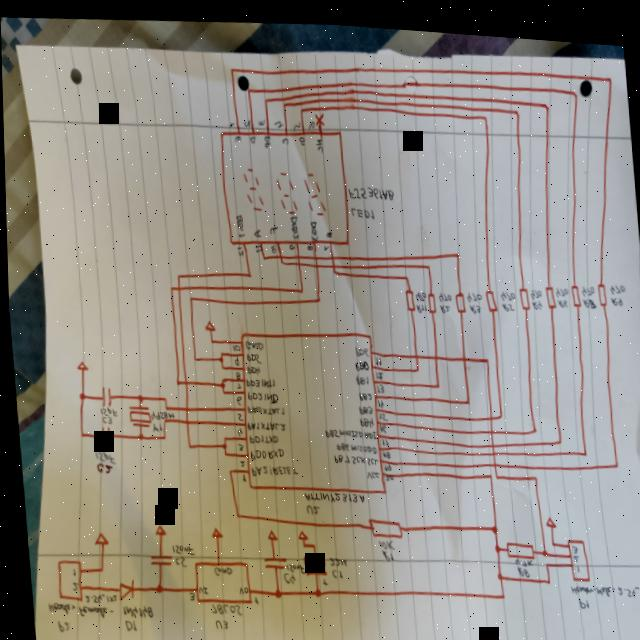capacitor: (298, 549, 325, 582), (145, 549, 169, 567), (259, 551, 283, 567), (97, 383, 110, 407), (96, 423, 109, 447)
crossover: (429, 346, 437, 355), (410, 345, 417, 354), (173, 281, 180, 290), (180, 415, 187, 423), (486, 433, 493, 441), (181, 401, 187, 410), (458, 347, 464, 356), (488, 454, 495, 461), (327, 249, 334, 256), (180, 375, 186, 383), (487, 442, 493, 448), (485, 407, 490, 414), (486, 421, 491, 428), (276, 249, 281, 255), (312, 257, 316, 264), (295, 256, 299, 262), (294, 249, 298, 255), (311, 250, 315, 256), (330, 258, 334, 263)
diode: (113, 574, 132, 600)
ground: (89, 528, 106, 546), (149, 521, 163, 534), (206, 522, 219, 535), (541, 506, 553, 520), (73, 358, 87, 370), (201, 316, 213, 329), (262, 524, 274, 537), (293, 524, 305, 536)
junction: (486, 516, 496, 527), (491, 564, 501, 575), (489, 536, 499, 547), (150, 580, 160, 591), (269, 583, 278, 595), (479, 105, 489, 115), (133, 429, 142, 439), (75, 389, 83, 400), (537, 540, 545, 550), (133, 391, 141, 400), (310, 583, 317, 593), (279, 95, 286, 104), (578, 440, 585, 448), (312, 290, 319, 298), (542, 94, 549, 102), (231, 507, 237, 516), (173, 269, 179, 278), (186, 291, 192, 300), (166, 281, 172, 290), (297, 101, 303, 110), (571, 81, 577, 90), (606, 65, 612, 74), (540, 553, 546, 561), (496, 584, 502, 592), (610, 452, 616, 460), (452, 243, 458, 251), (244, 267, 250, 275), (76, 429, 82, 437), (423, 256, 429, 264), (481, 349, 487, 357), (183, 439, 189, 447), (553, 429, 559, 437), (189, 351, 195, 359), (528, 418, 534, 426), (158, 431, 164, 439), (513, 101, 519, 109), (296, 282, 302, 290), (261, 92, 267, 100), (546, 531, 552, 539), (172, 375, 178, 383), (224, 464, 230, 471), (206, 334, 212, 340), (215, 353, 221, 359), (217, 379, 223, 385), (218, 439, 224, 445), (96, 564, 101, 571), (542, 569, 547, 576), (402, 268, 407, 275), (259, 250, 264, 257), (529, 467, 534, 473), (495, 405, 500, 411), (412, 359, 417, 365), (160, 393, 164, 400), (463, 391, 467, 397), (433, 376, 437, 382), (485, 465, 489, 471), (491, 466, 495, 472), (161, 402, 165, 408), (219, 432, 223, 438), (298, 537, 302, 543), (245, 83, 249, 89), (229, 63, 233, 69), (330, 264, 334, 269), (220, 448, 224, 453), (218, 361, 222, 366), (308, 538, 312, 543), (219, 386, 222, 391), (160, 415, 163, 420), (218, 374, 221, 378), (217, 348, 220, 352), (278, 256, 281, 260)
resistor: (363, 510, 399, 534), (502, 532, 531, 552), (482, 281, 495, 305), (452, 284, 464, 308), (542, 277, 554, 301), (516, 278, 527, 302), (402, 282, 413, 305), (568, 275, 579, 298), (595, 273, 604, 297), (425, 286, 434, 306)
terminal: (51, 557, 80, 602), (563, 528, 586, 573)
text: (564, 568, 640, 592), (42, 598, 110, 621), (347, 176, 394, 199), (300, 483, 361, 500), (246, 456, 295, 477), (321, 420, 373, 436), (329, 446, 376, 463), (332, 434, 373, 450), (246, 441, 281, 458), (243, 415, 283, 429), (117, 601, 149, 618), (243, 399, 281, 413), (205, 598, 238, 614), (347, 198, 374, 217), (244, 385, 276, 401), (80, 590, 114, 604), (242, 372, 273, 386), (245, 428, 274, 442), (91, 447, 113, 463), (167, 540, 191, 554), (147, 407, 172, 419), (241, 334, 261, 348), (233, 209, 244, 234), (287, 209, 297, 236), (208, 562, 229, 574), (282, 558, 302, 570), (242, 346, 259, 360), (355, 410, 372, 424), (93, 459, 110, 473), (496, 281, 514, 294), (96, 404, 115, 416), (351, 353, 367, 367), (208, 614, 224, 628), (463, 284, 480, 297), (325, 550, 343, 562), (52, 618, 67, 632), (578, 275, 593, 289), (374, 533, 391, 545), (307, 214, 317, 234), (511, 548, 529, 559), (351, 340, 367, 352), (607, 274, 624, 285), (279, 567, 292, 581), (512, 557, 526, 570), (573, 587, 586, 601), (552, 277, 566, 290), (355, 385, 370, 397), (301, 498, 316, 510), (355, 398, 370, 410), (243, 360, 258, 372), (579, 288, 594, 300), (120, 617, 133, 630), (377, 542, 390, 555), (435, 284, 449, 296), (466, 295, 480, 307), (313, 132, 323, 148), (265, 219, 277, 232), (170, 553, 183, 565), (527, 280, 540, 292), (352, 369, 366, 380), (607, 286, 621, 297), (362, 464, 377, 474), (498, 294, 512, 304), (261, 129, 270, 144), (379, 454, 390, 466), (233, 581, 244, 593), (327, 563, 339, 574), (413, 295, 424, 307), (412, 284, 424, 295), (529, 290, 540, 302), (372, 377, 383, 388), (148, 419, 159, 430), (437, 296, 448, 307), (233, 242, 243, 254), (240, 114, 250, 126), (250, 224, 261, 234), (322, 224, 332, 235), (98, 413, 109, 423), (555, 289, 565, 300), (290, 116, 300, 126), (296, 131, 305, 142), (246, 130, 255, 141), (272, 115, 283, 124), (255, 113, 264, 123), (279, 132, 288, 142), (306, 115, 315, 125), (194, 583, 204, 592), (67, 580, 75, 591), (372, 365, 381, 374), (232, 130, 240, 140), (232, 392, 240, 402), (375, 406, 385, 414), (230, 351, 237, 362), (374, 392, 381, 403), (184, 588, 191, 599), (229, 339, 237, 348), (378, 444, 387, 452), (236, 469, 243, 479), (372, 350, 379, 360), (233, 423, 240, 433), (382, 468, 390, 476), (252, 240, 260, 248), (376, 418, 383, 427), (268, 239, 274, 249), (233, 409, 240, 417), (321, 238, 327, 247), (379, 431, 385, 440), (67, 565, 72, 575), (249, 591, 254, 601), (304, 239, 311, 246), (286, 239, 294, 245), (234, 439, 240, 447), (568, 536, 574, 544), (569, 545, 575, 552), (236, 456, 242, 463), (227, 118, 234, 124), (233, 367, 238, 375), (233, 378, 238, 385), (571, 555, 575, 563)
